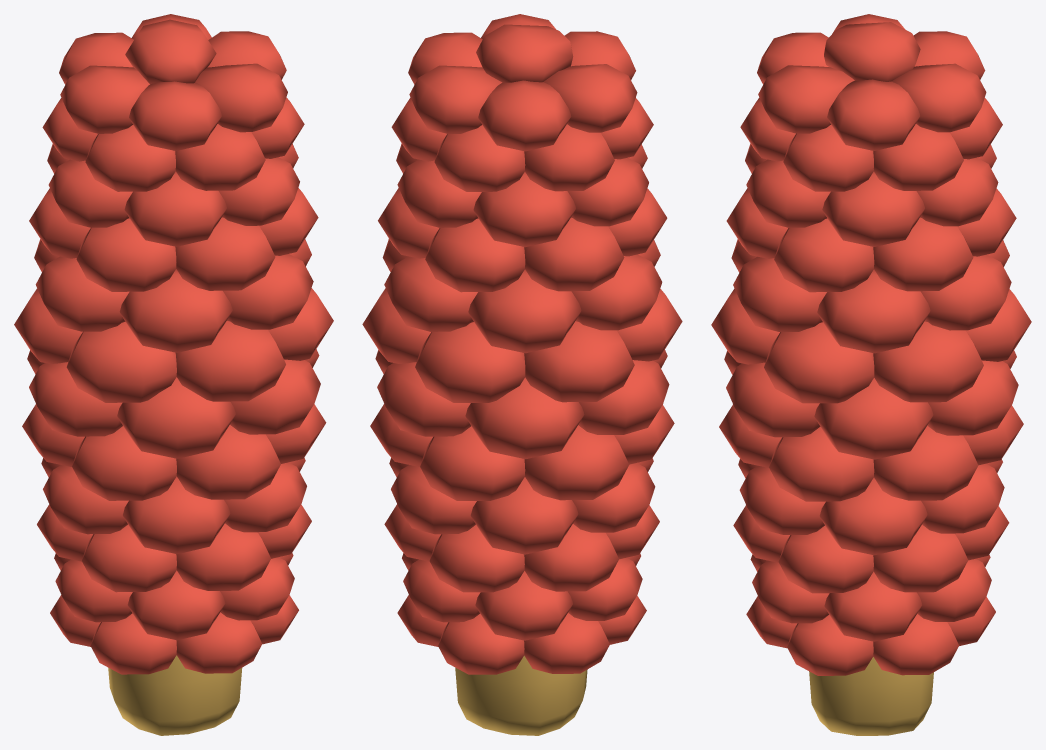
File: Corn (1).fbx
3 views of the same model, side by side, from view 1: azimuth 30°, elevation 25°; view 2: azimuth 150°, elevation 25°; view 3: azimuth 270°, elevation 25° (orthographic).
Visible parts, largest first — view 1: Hoja1.003; view 2: Hoja1.003; view 3: Hoja1.003.
Part boxes in pixels (bbox=[...]): Hoja1.003: bbox=[14, 14, 333, 735]; Hoja1.003: bbox=[362, 14, 682, 735]; Hoja1.003: bbox=[711, 14, 1031, 735].
Bounding box in the file's own units: 14.52 × 34.33 × 14.52.
